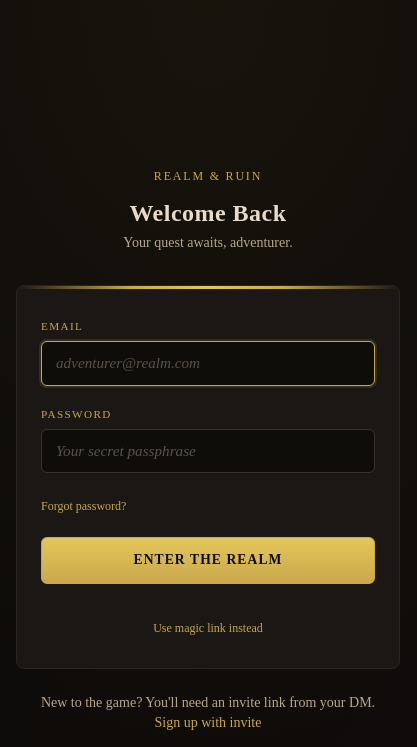
Test: LoginForm › magic link mode › validates email before sending magic link
Click the button with test id "magic-link-toggle".
click(208, 628)  # box [153,620,263,636]
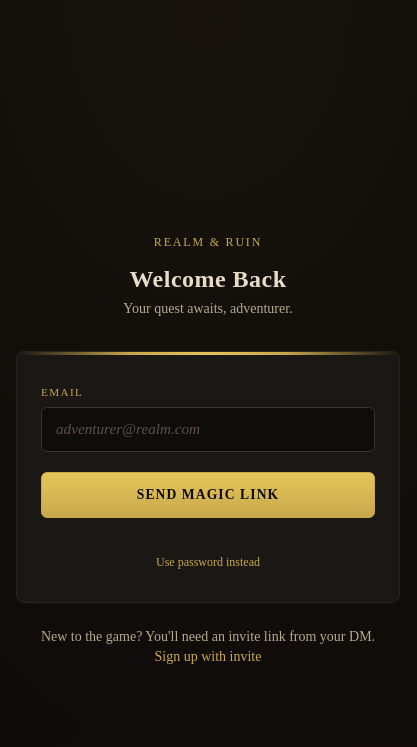
Click the button with test id "magic-link-submit".
click(208, 495)  # box [41,472,375,518]
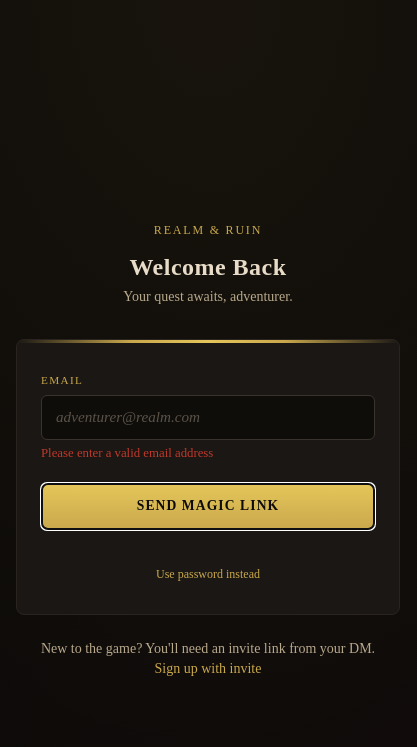
Result: the text "Please enter a valid email address" is shown at [41,446,213,460]
